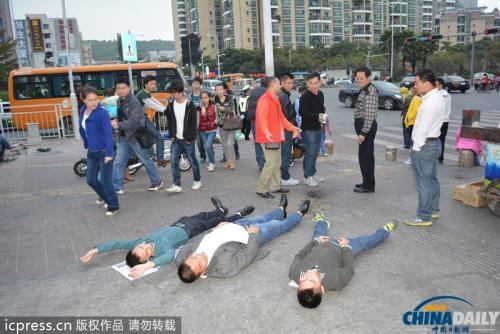10+: (64, 65, 500, 312)
down: (75, 192, 258, 280), (172, 188, 312, 284), (286, 205, 399, 312)
